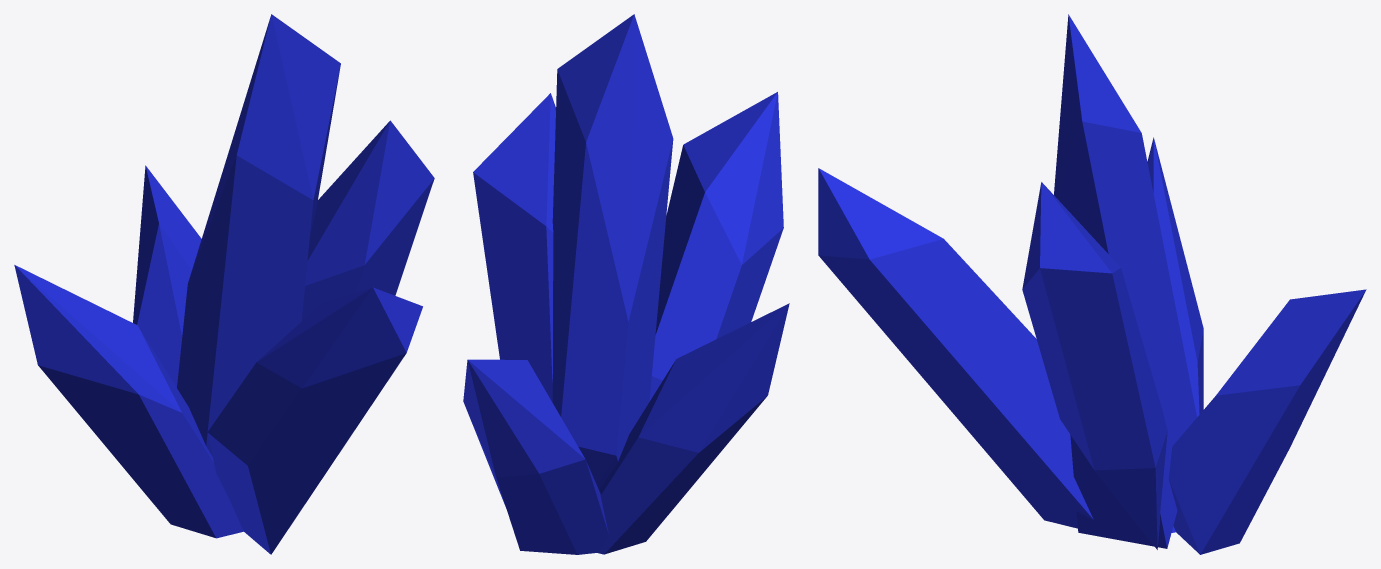
File: Crystal_Group_2.FBX
The picture shows the model from 3 angles, left to right: view 1: azimuth 30°, elevation 25°; view 2: azimuth 150°, elevation 25°; view 3: azimuth 270°, elevation 25°; orthographic projection. The views are drawn at different scales.
Visible parts, largest first — view 1: Crystal_Group_3; view 2: Crystal_Group_3; view 3: Crystal_Group_3.
Boxes of the visible parts, <box> form: Crystal_Group_3: <box>14,14,434,554</box>; Crystal_Group_3: <box>463,14,789,554</box>; Crystal_Group_3: <box>818,14,1366,554</box>.
Bounding box in the file's own units: 155 × 214 × 207.
